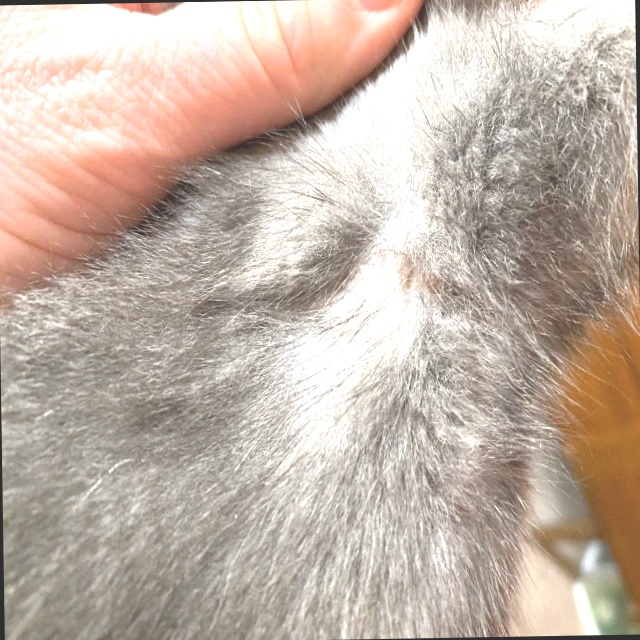hairloss: (321, 237, 445, 333)
